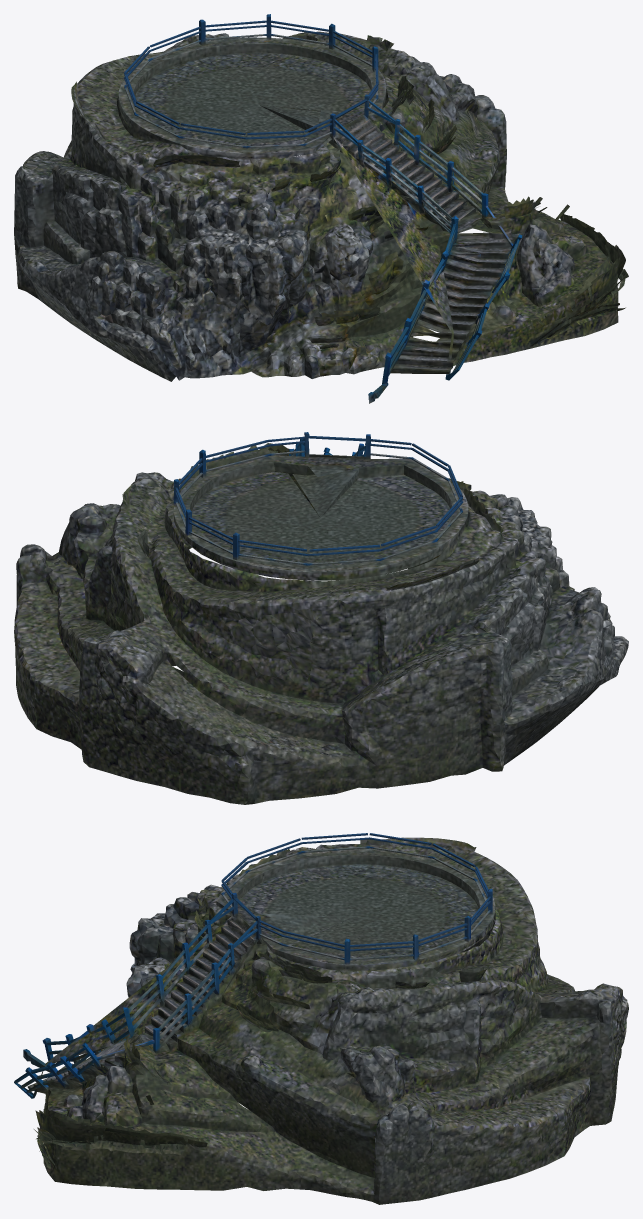
The model's file is lighthouse_rock_island_game_lod1.glb.
3 views of the same model, one above another, from view 1: azimuth 30°, elevation 25°; view 2: azimuth 150°, elevation 25°; view 3: azimuth 270°, elevation 25° (orthographic). The views are drawn at different scales.
Parts seen in each view (by area): view 1: geometry_0; view 2: geometry_0; view 3: geometry_0.
Boxes of the visible parts, x1,y1,x2,y2 form: geometry_0: [14, 14, 628, 403]; geometry_0: [14, 432, 628, 804]; geometry_0: [14, 833, 628, 1204].
Size of the model in its own units: 33.1 by 12.67 by 35.18.
1 material, 1 textured.
